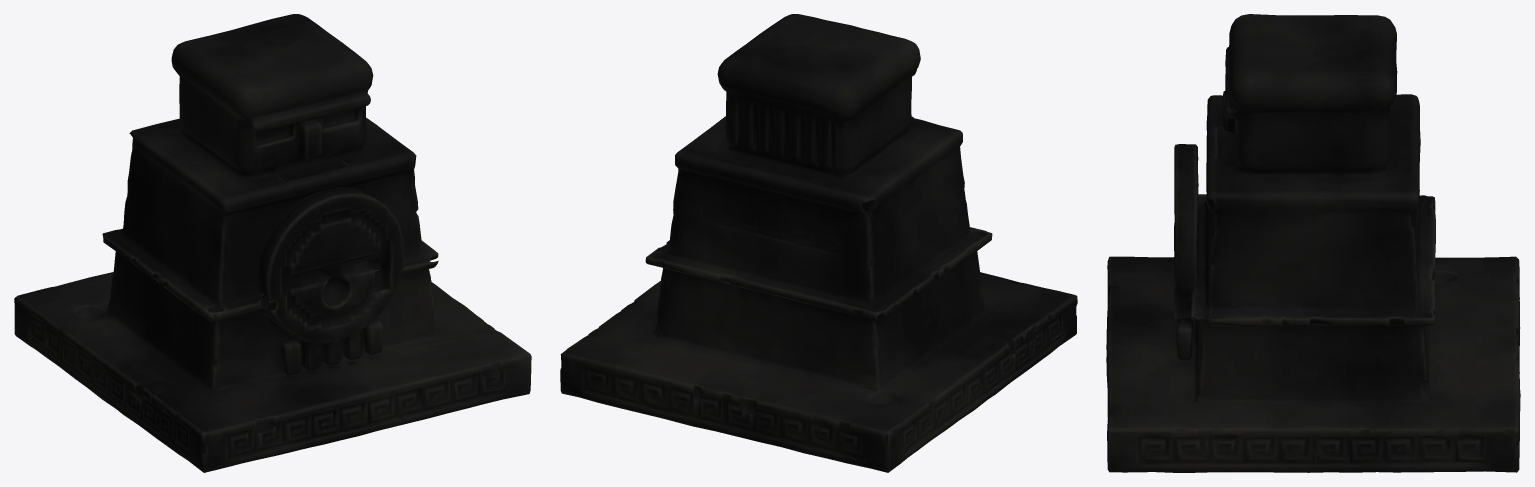
The model's file is pawn-basalt.glb.
The picture shows the model from 3 angles, left to right: view 1: azimuth 30°, elevation 25°; view 2: azimuth 150°, elevation 25°; view 3: azimuth 270°, elevation 25°; orthographic projection. The views are drawn at different scales.
Visible parts, largest first — view 1: pawn; view 2: pawn; view 3: pawn.
Part boxes in pixels (box(x1,y1,x2,y2)): pawn: box(14, 14, 531, 472); pawn: box(560, 14, 1077, 472); pawn: box(1106, 14, 1520, 472).
Size of the model in its own units: 0.6421 by 0.5878 by 0.6435.
Materials: 1 (1 with a texture image).
